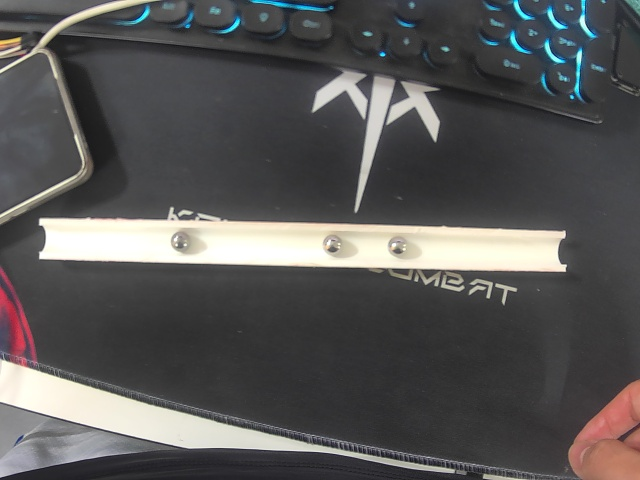steelball: (169, 230, 192, 252), (387, 235, 409, 258), (322, 233, 343, 255)
